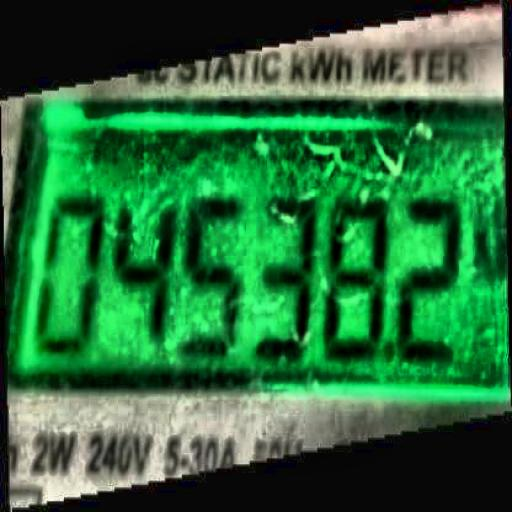DISPLAY_REGION: (13, 99, 512, 391)
SERIAL_REGION: (25, 190, 488, 366)
